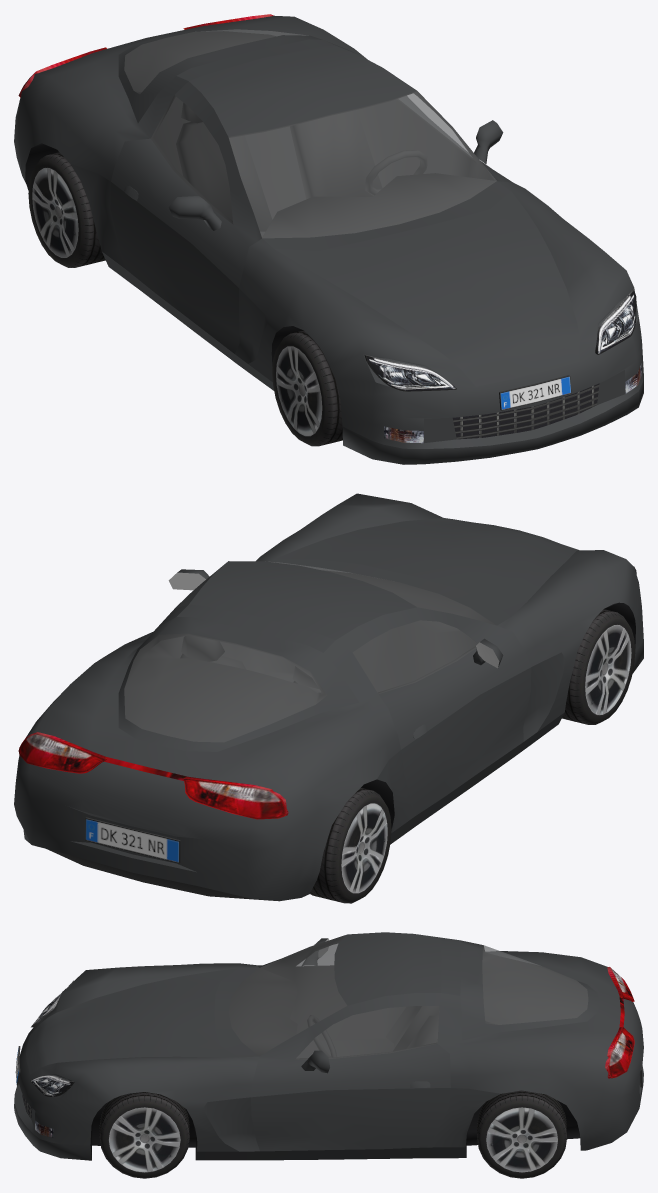
File: sweethome3d-scopia-sports-car.glb
The picture shows the model from 3 angles, top to bottom: view 1: azimuth 30°, elevation 25°; view 2: azimuth 150°, elevation 25°; view 3: azimuth 270°, elevation 25°; orthographic projection. The views are drawn at different scales.
Parts seen in each view (by area): view 1: sportive, interior, Wheels, FrontLights, LicensePlates, RearLights; view 2: sportive, interior, Wheels, RearLights, LicensePlates, sweethome3d_window_mirror; view 3: sportive, interior, Wheels, RearLights, FrontLights.
Boxes of the visible parts, x1,y1,x2,y2 form: sportive: (14,15,643,464); interior: (124,31,496,238); Wheels: (28,152,342,446); FrontLights: (364,289,636,391); LicensePlates: (499,375,571,410); RearLights: (18,14,273,97); sportive: (14,493,643,901); interior: (124,570,495,742); Wheels: (310,609,635,903); RearLights: (18,732,288,819); LicensePlates: (85,817,180,863); sweethome3d_window_mirror: (168,572,499,668); sportive: (14,932,643,1160); interior: (228,935,588,1059); Wheels: (99,1090,566,1178); RearLights: (605,967,634,1078); FrontLights: (30,980,74,1096).
Size of the model in its own units: 210 by 128 by 448.
16 materials, 8 textured.
